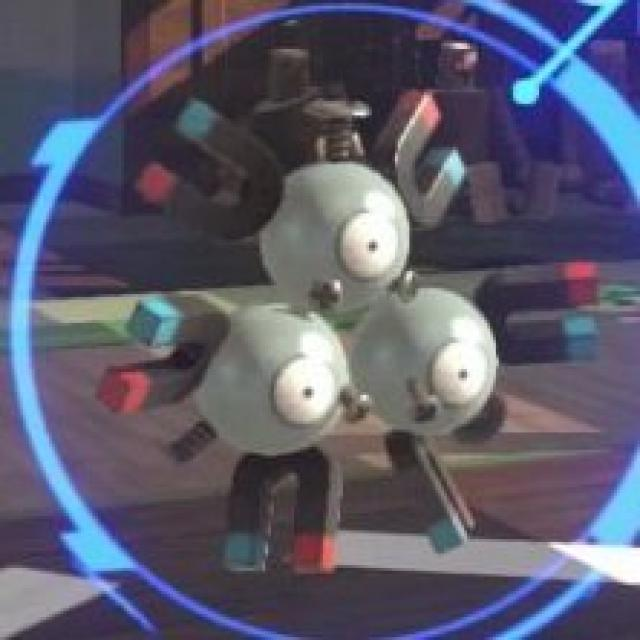Magneton: (133, 125, 527, 512)
